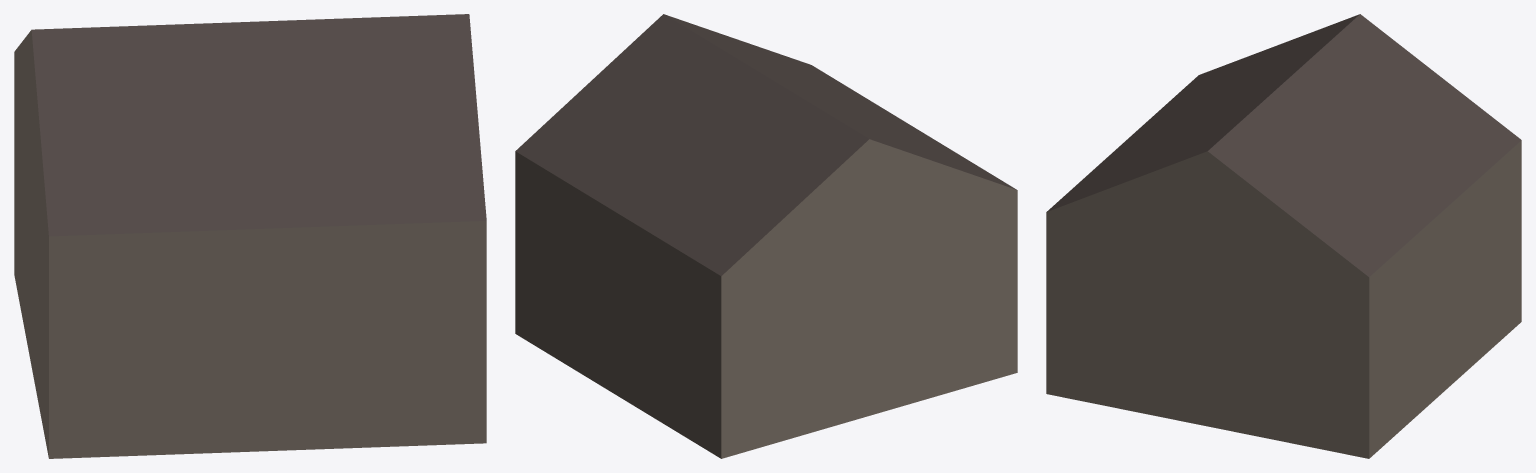
The picture shows the model from 3 angles, left to right: view 1: azimuth 30°, elevation 25°; view 2: azimuth 150°, elevation 25°; view 3: azimuth 270°, elevation 25°; orthographic projection. The views are drawn at different scales.
Parts seen in each view (by area): view 1: HP-w859082568; view 2: HP-w859082568; view 3: HP-w859082568.
Part boxes in pixels (x1=…): HP-w859082568: x1=14, y1=14, x2=486, y2=458; HP-w859082568: x1=515, y1=14, x2=1017, y2=458; HP-w859082568: x1=1046, y1=14, x2=1521, y2=458.
Size of the model in its own units: 14.32 by 9.09 by 14.24.
